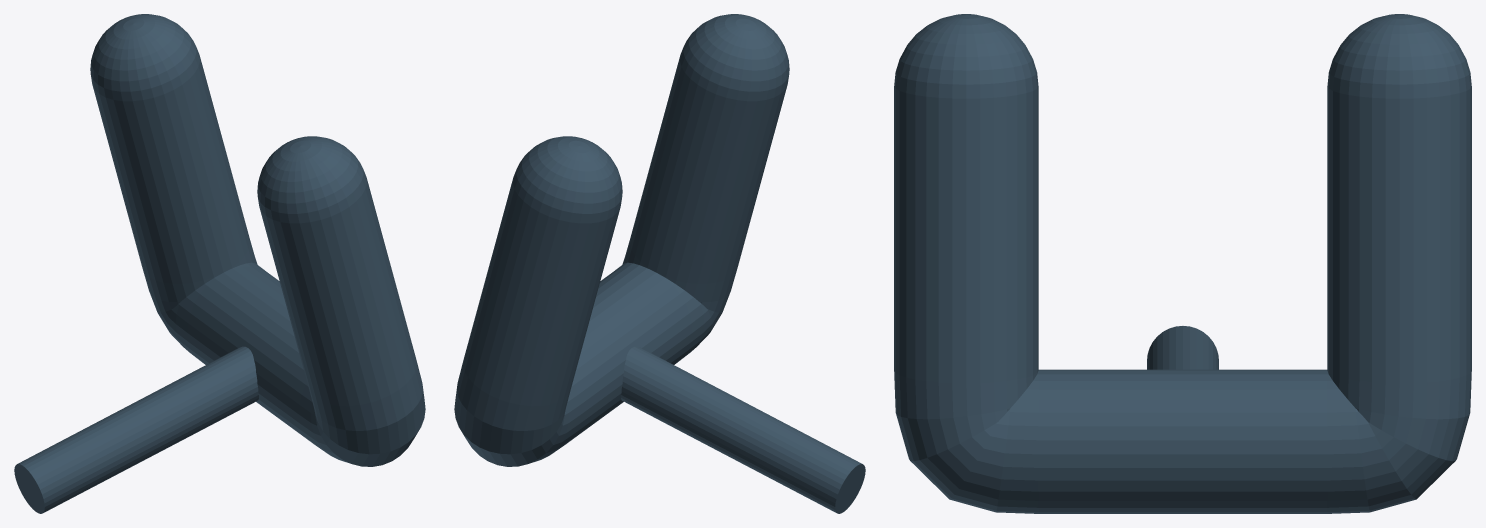
The model's file is Navigation-helm.glb.
3 renders of one model, left to right at view 1: azimuth 30°, elevation 25°; view 2: azimuth 150°, elevation 25°; view 3: azimuth 270°, elevation 25°, orthographic. The views are drawn at different scales.
Visible parts, largest first — view 1: Cylinder; view 2: Cylinder; view 3: Cylinder.
Boxes of the visible parts, left/top/right/bottom form: Cylinder: left=14, top=14, right=425, bottom=513; Cylinder: left=454, top=14, right=865, bottom=513; Cylinder: left=894, top=14, right=1471, bottom=513.
Bounding box in the file's own units: 6.57 × 7.62 × 8.
